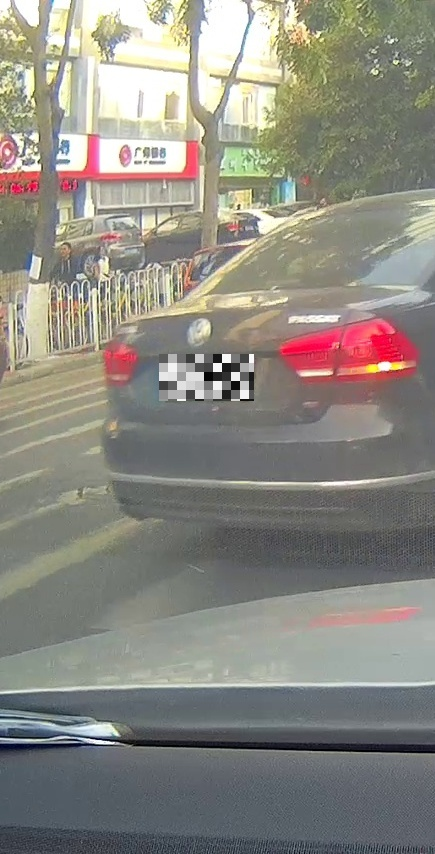L_light: (102, 339, 139, 385)
R_light: (280, 317, 418, 383)
T_light: (373, 195, 418, 209)
day-right: (99, 188, 435, 556)
plate_1: (159, 354, 254, 401)
